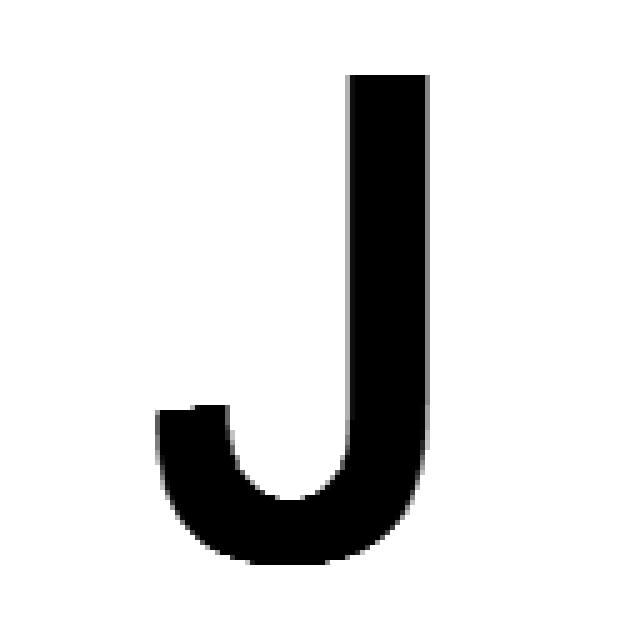J: (145, 65, 435, 570)
